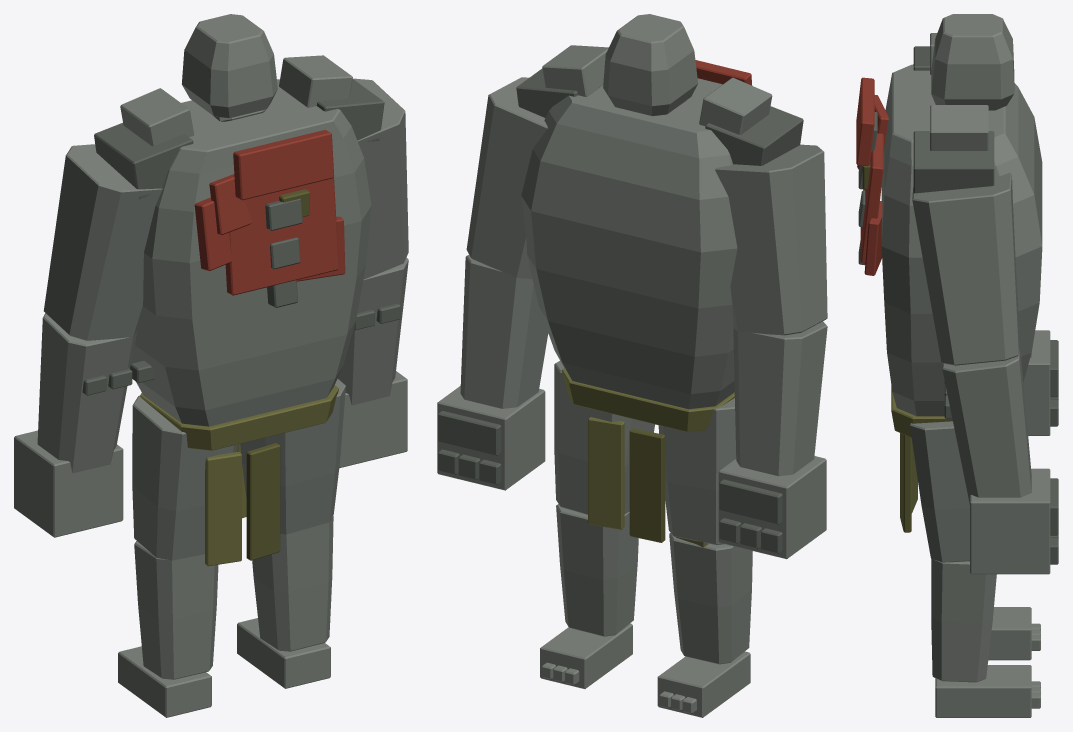
The model's file is mdl_mon_brute_normal_v1.glb.
3 views of the same model, side by side, from view 1: azimuth 30°, elevation 25°; view 2: azimuth 150°, elevation 25°; view 3: azimuth 270°, elevation 25° (orthographic).
Visible parts, largest first — view 1: GEO_Mon_Body, GEO_Mon_Gear; view 2: GEO_Mon_Body, GEO_Mon_Gear; view 3: GEO_Mon_Body, GEO_Mon_Gear.
Boxes of the visible parts, x1,y1,x2,y2 form: GEO_Mon_Body: [14, 14, 408, 717]; GEO_Mon_Gear: [140, 385, 338, 566]; GEO_Mon_Body: [437, 14, 827, 717]; GEO_Mon_Gear: [561, 368, 734, 547]; GEO_Mon_Body: [856, 14, 1058, 717]; GEO_Mon_Gear: [891, 386, 952, 532].
Bounding box in the file's own units: 1.8 × 3.19 × 0.8932.
